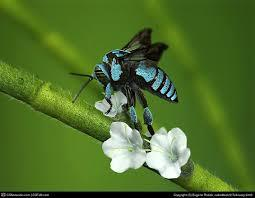Thyreus: (77, 28, 184, 135)
